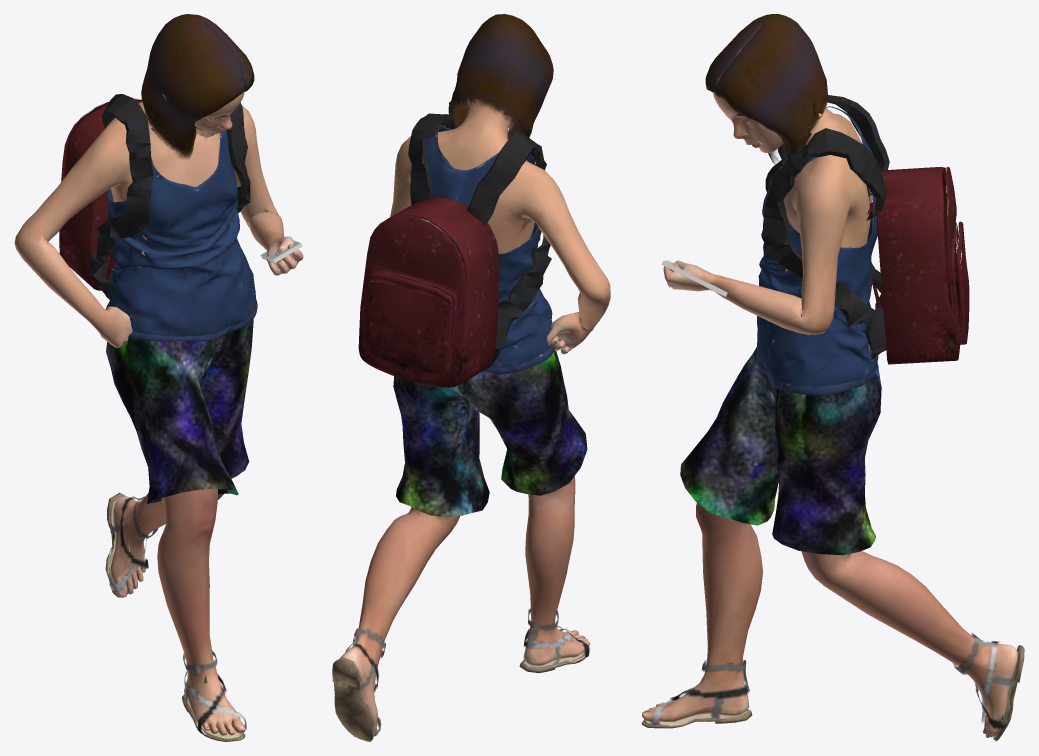
3 views of the same model, side by side, from view 1: azimuth 30°, elevation 25°; view 2: azimuth 150°, elevation 25°; view 3: azimuth 270°, elevation 25° (orthographic). The views are drawn at different scales.
Visible parts, largest first — view 1: p01603; view 2: p01603; view 3: p01603.
Part boxes in pixels (x1,y1,x2,y2): p01603: (14,14,303,741); p01603: (332,14,610,741); p01603: (641,14,1024,740).
Size of the model in its own units: 0.6177 by 1.64 by 0.8013.
1 material, 1 textured.
